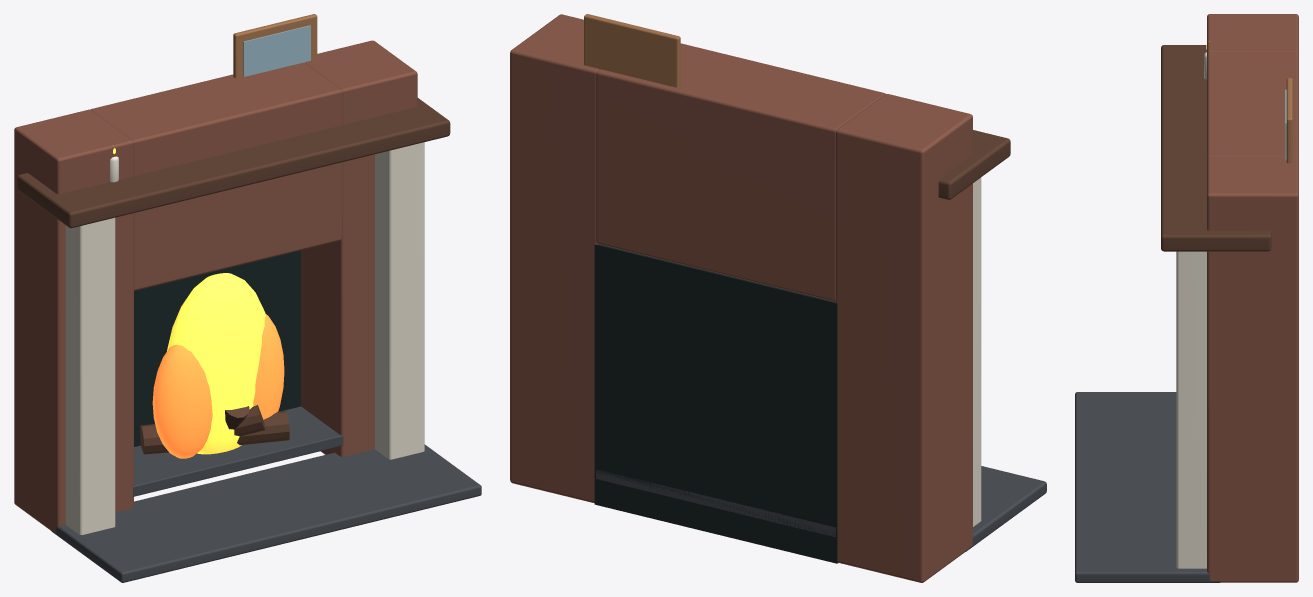
Rendered from fireplace.glb.
The picture shows the model from 3 angles, left to right: view 1: azimuth 30°, elevation 25°; view 2: azimuth 150°, elevation 25°; view 3: azimuth 270°, elevation 25°; orthographic projection. The views are drawn at different scales.
Parts seen in each view (by area): view 1: Chimney lintel, Chimney breast, Hearth stone, Chimney breast.001, Pilaster, Mantel shelf, Pilaster.001, Firebox back, Flame, Firebox floor, Flame.001, Picture (+3 smaller); view 2: Chimney breast, Firebox back, Chimney lintel, Chimney breast.001, Picture frame, Pilaster, Hearth stone, Firebox floor, Mantel shelf; view 3: Chimney breast.001, Hearth stone, Mantel shelf, Pilaster.001, Chimney lintel, Chimney breast, Picture frame.
Part boxes in pixels (x1=…): Chimney lintel: x1=90, y1=62, x2=342, y2=290; Chimney breast: x1=14, y1=109, x2=133, y2=533; Hearth stone: x1=51, y1=444, x2=481, y2=582; Chimney breast.001: x1=301, y1=40, x2=417, y2=456; Pilaster: x1=65, y1=217, x2=115, y2=534; Mantel shelf: x1=17, y1=98, x2=450, y2=228; Pilaster.001: x1=375, y1=142, x2=424, y2=459; Firebox back: x1=134, y1=250, x2=300, y2=446; Flame: x1=167, y1=273, x2=265, y2=454; Firebox floor: x1=133, y1=406, x2=343, y2=496; Flame.001: x1=152, y1=344, x2=212, y2=458; Picture: x1=243, y1=25, x2=310, y2=76; Chimney breast: x1=835, y1=94, x2=972, y2=582; Firebox back: x1=594, y1=244, x2=837, y2=563; Chimney lintel: x1=596, y1=43, x2=885, y2=301; Chimney breast.001: x1=510, y1=14, x2=599, y2=503; Picture frame: x1=584, y1=14, x2=680, y2=87; Pilaster: x1=973, y1=177, x2=981, y2=526; Hearth stone: x1=966, y1=466, x2=1046, y2=551; Firebox floor: x1=596, y1=469, x2=835, y2=537; Mantel shelf: x1=938, y1=130, x2=1010, y2=199; Chimney breast.001: x1=1207, y1=156, x2=1298, y2=582; Hearth stone: x1=1075, y1=392, x2=1220, y2=582; Mantel shelf: x1=1161, y1=45, x2=1271, y2=251; Pilaster.001: x1=1176, y1=251, x2=1206, y2=568; Chimney lintel: x1=1207, y1=51, x2=1298, y2=158; Chimney breast: x1=1207, y1=14, x2=1298, y2=53; Picture frame: x1=1286, y1=78, x2=1292, y2=163.
Bounding box in the file's own units: 1.48 × 1.56 × 0.73.
